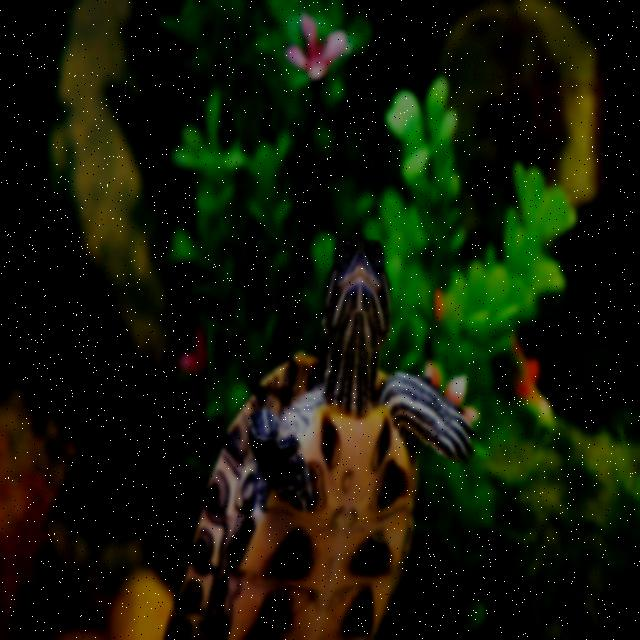tortoise: (170, 245, 484, 640)
